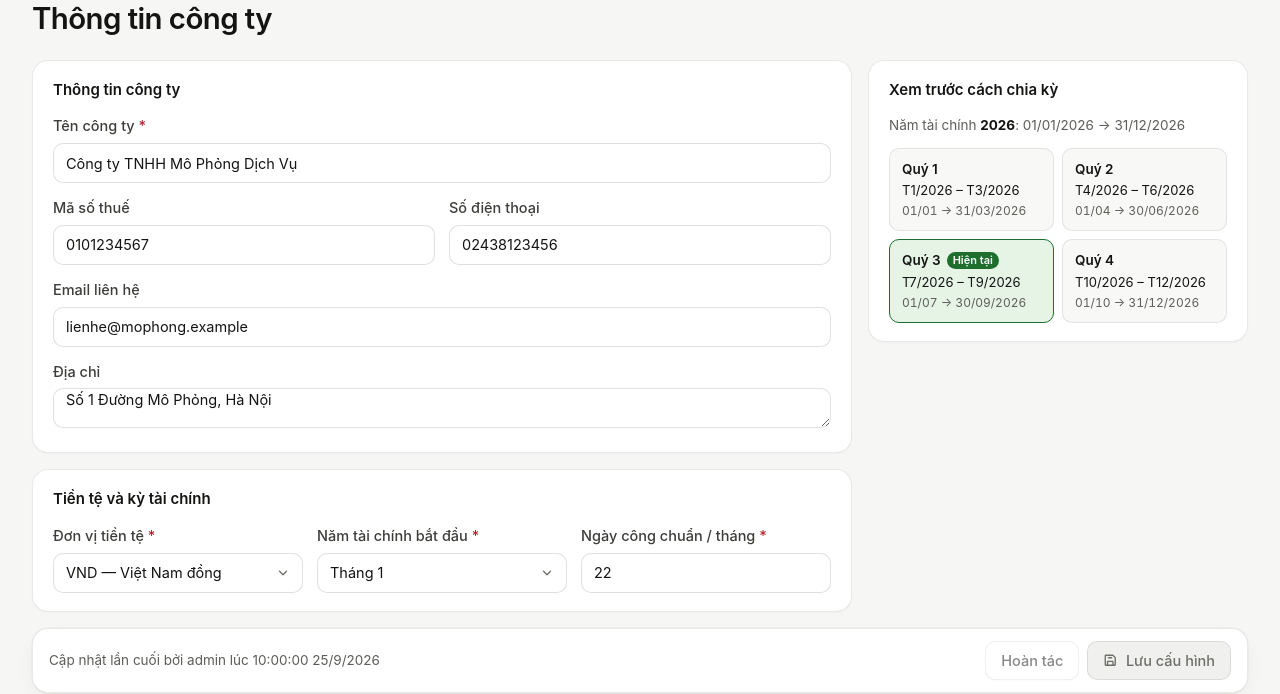
Test: CompanySettingPage (NCL-15-CN-002) › kiểm tra định dạng mã số thuế, số điện thoại, email, ngày công
Step 1. Replace the text in the field with test id "company-input-tax" with "12345" → (244, 245), box left=53, top=225, right=435, bottom=265
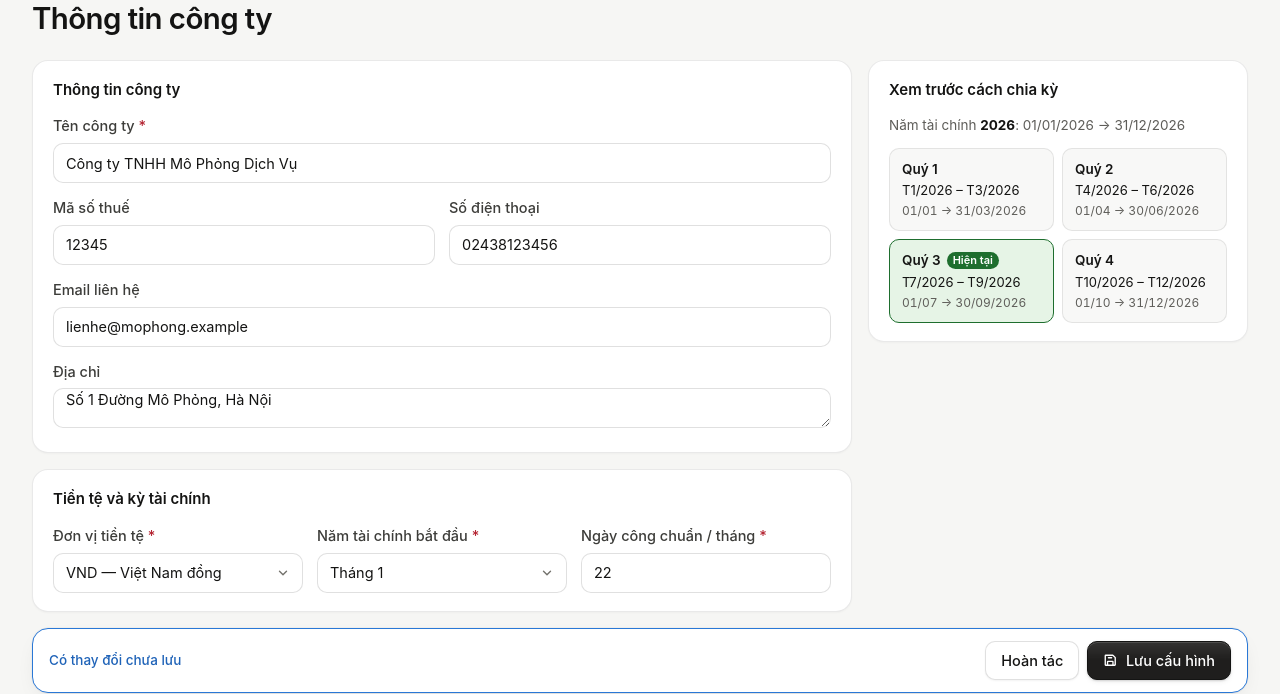
Step 2. Type "12345" into the field with test id "company-input-phone" → (640, 245), box left=449, top=225, right=831, bottom=265
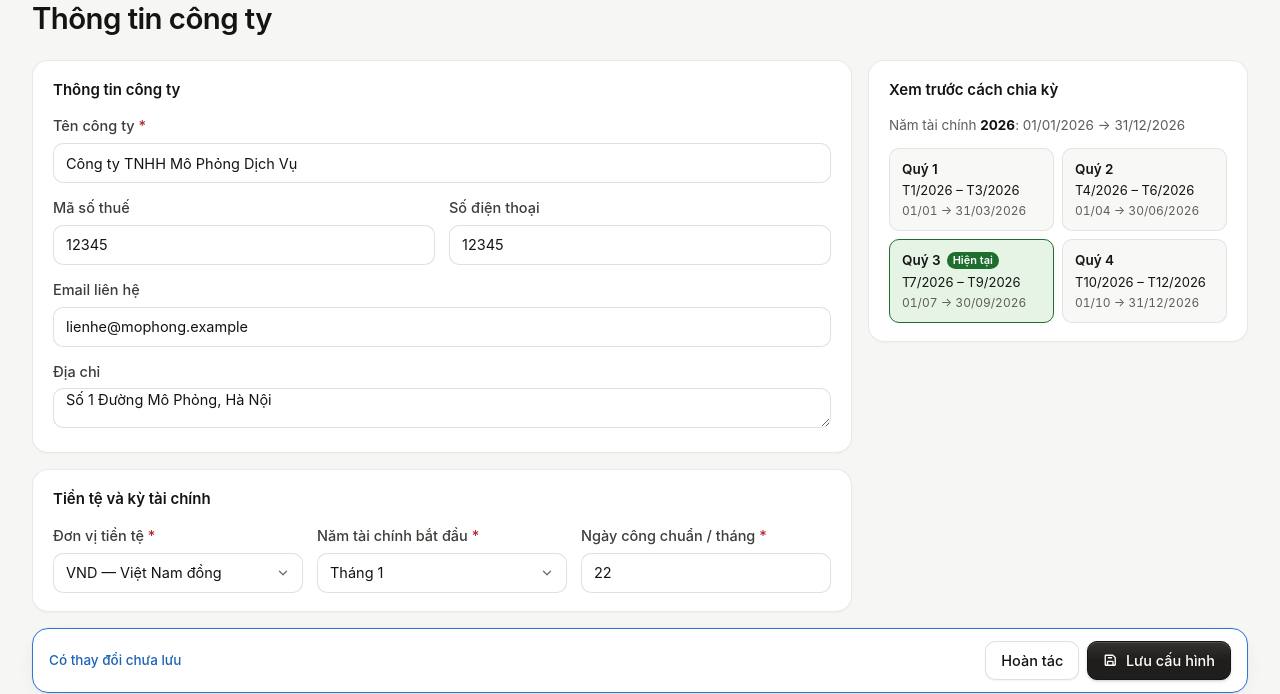
Step 3. Replace the text in the field with test id "company-input-email" with "sai-email" → (442, 327), box left=53, top=307, right=831, bottom=347
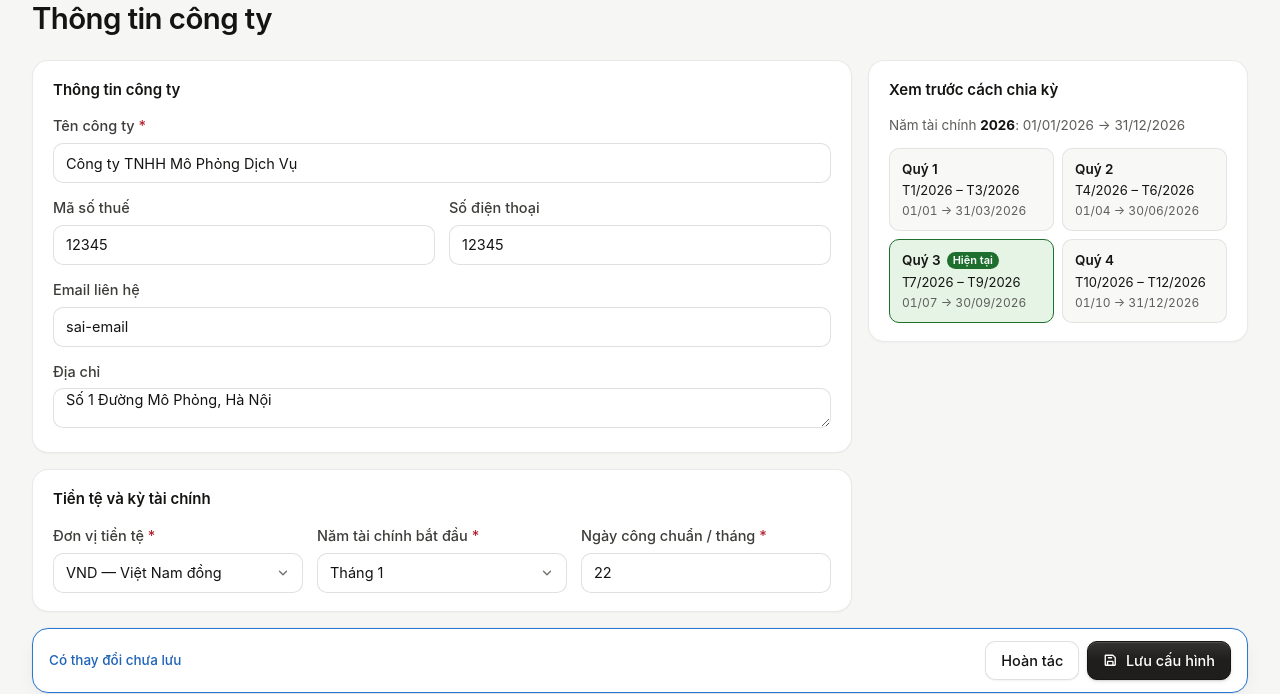
Step 4. Replace the text in the field with test id "company-input-days" with "40" → (706, 573), box left=581, top=553, right=831, bottom=593
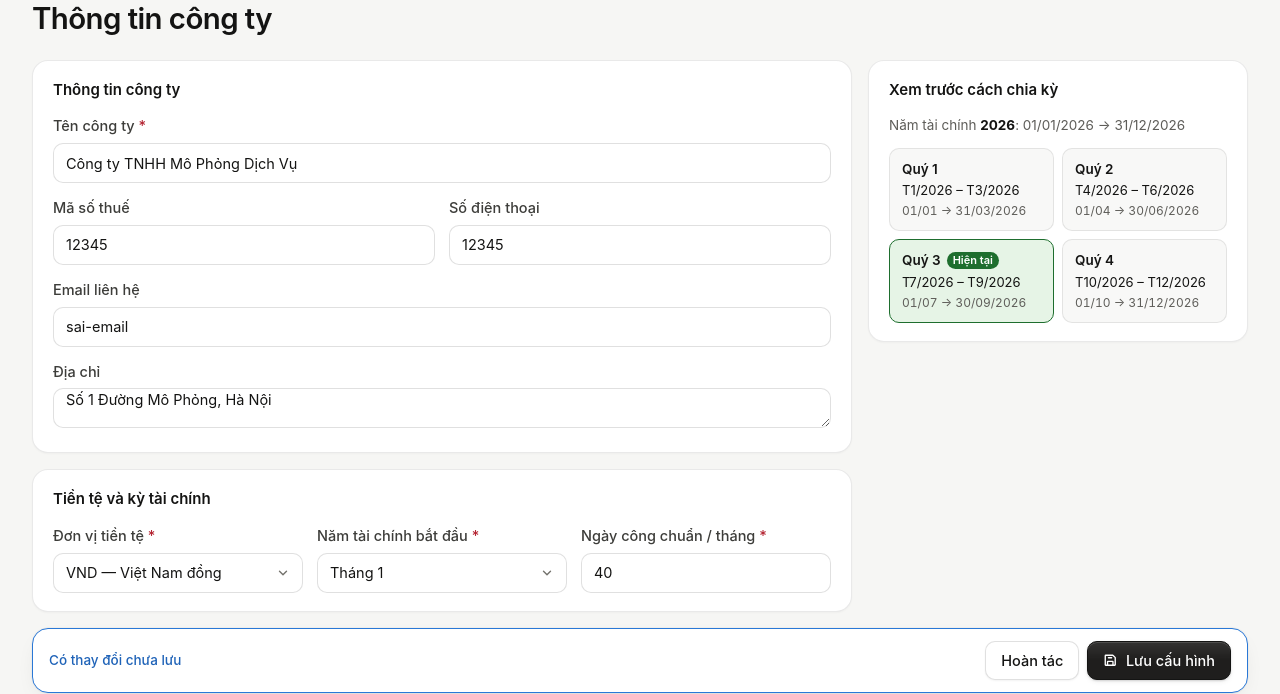
Step 5. Click the button with test id "company-save" → (1159, 660), box left=1087, top=641, right=1231, bottom=680
(page scrolled)
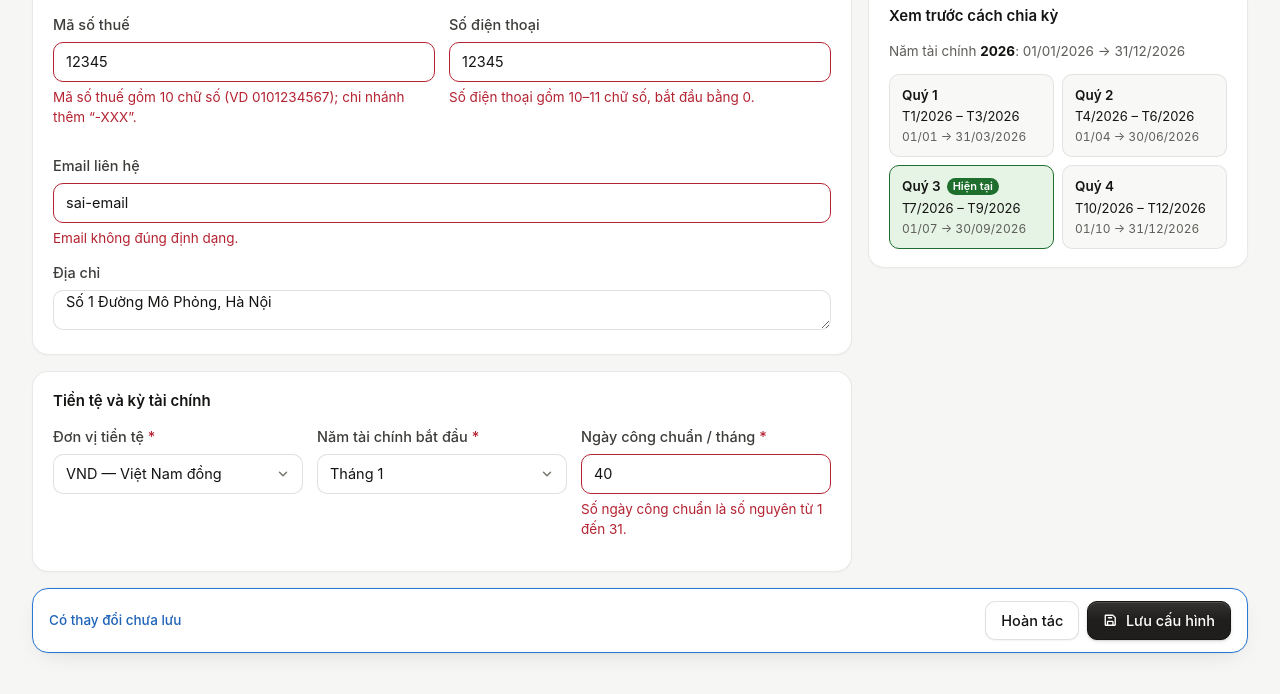
Now the message with test id "company-error-taxCode" shows "10 chữ số", box left=53, top=89, right=404, bottom=125
Now the message with test id "company-error-phone" shows "bắt đầu bằng 0", box left=449, top=89, right=755, bottom=105
Now the message with test id "company-error-email" shows "Email", box left=53, top=230, right=238, bottom=246
